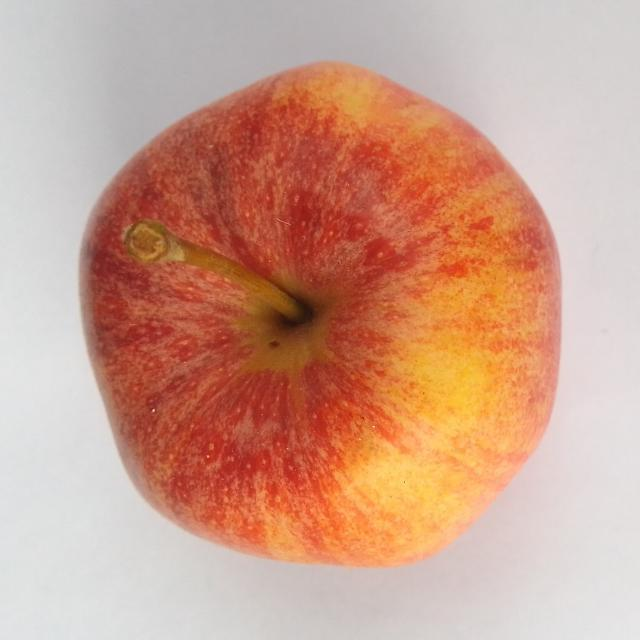Fresh Apple: (70, 57, 565, 578)
